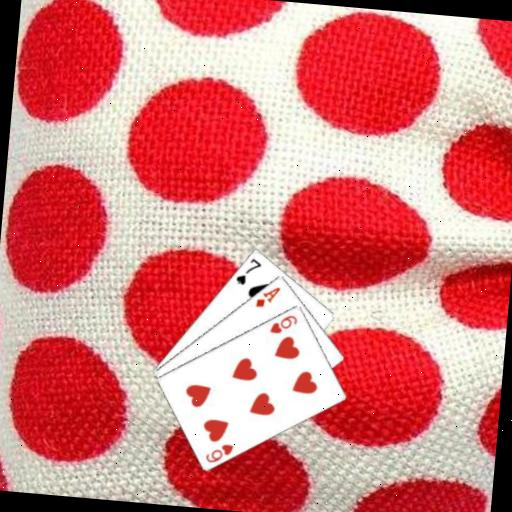6H: (202, 439, 236, 467), (267, 310, 300, 337)
7S: (232, 253, 263, 288)
AD: (252, 282, 282, 311)
